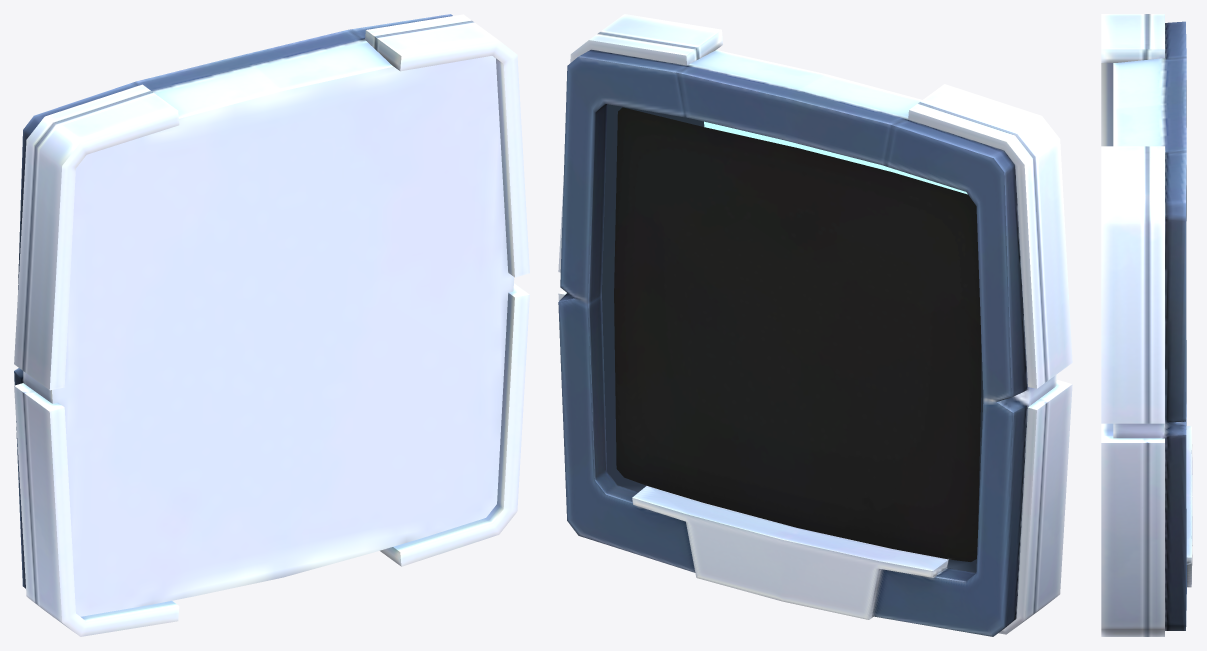
The picture shows the model from 3 angles, left to right: view 1: azimuth 30°, elevation 25°; view 2: azimuth 150°, elevation 25°; view 3: azimuth 270°, elevation 25°; orthographic projection. The views are drawn at different scales.
Parts seen in each view (by area): view 1: obj_tv02; view 2: obj_tv02; view 3: obj_tv02.
Part boxes in pixels (left/top/right/bottom): obj_tv02: left=14, top=14, right=529, bottom=636; obj_tv02: left=558, top=14, right=1072, bottom=636; obj_tv02: left=1101, top=14, right=1192, bottom=636.
Size of the model in its own units: 1.88 by 1.91 by 0.3472.
2 materials, 1 textured.
